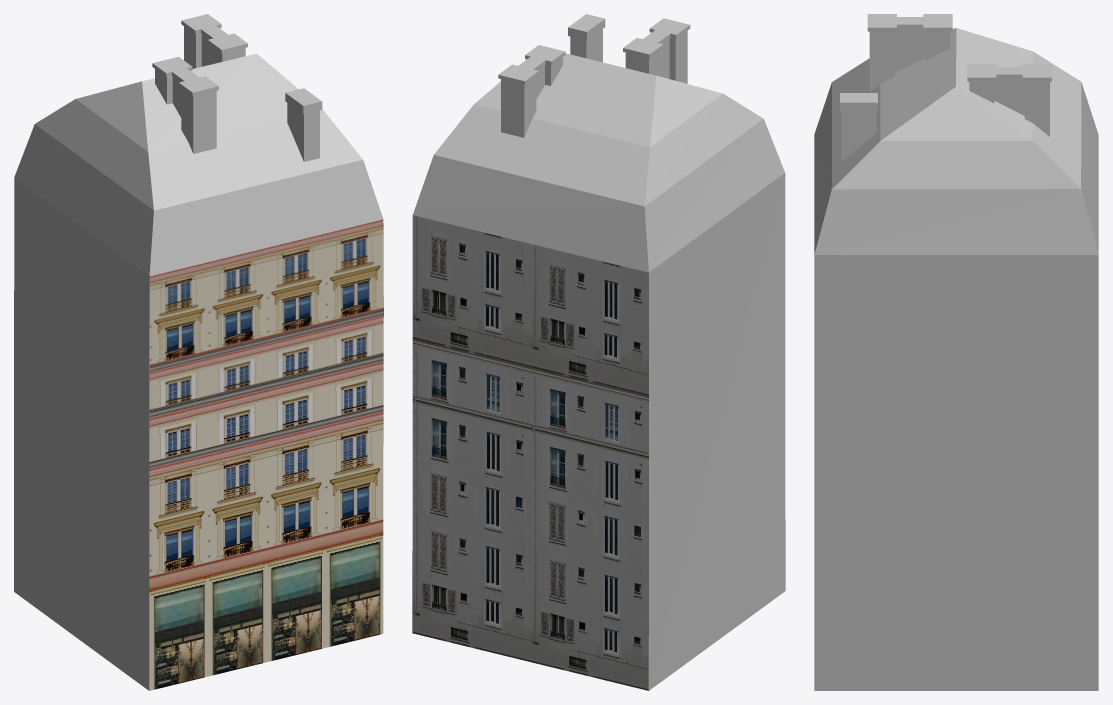
The model's file is LOD01_Builiding_ParisYellow.obj.
The picture shows the model from 3 angles, left to right: view 1: azimuth 30°, elevation 25°; view 2: azimuth 150°, elevation 25°; view 3: azimuth 270°, elevation 25°; orthographic projection. The views are drawn at different scales.
Parts seen in each view (by area): view 1: LOD01_Builiding_ParisYellow; view 2: LOD01_Builiding_ParisYellow; view 3: LOD01_Builiding_ParisYellow.
Boxes of the visible parts, x1,y1,x2,y2 form: LOD01_Builiding_ParisYellow: (14,14,383,690); LOD01_Builiding_ParisYellow: (412,14,785,690); LOD01_Builiding_ParisYellow: (814,14,1098,690).
Bounding box in the file's own units: 3.91 × 8.96 × 3.9.
